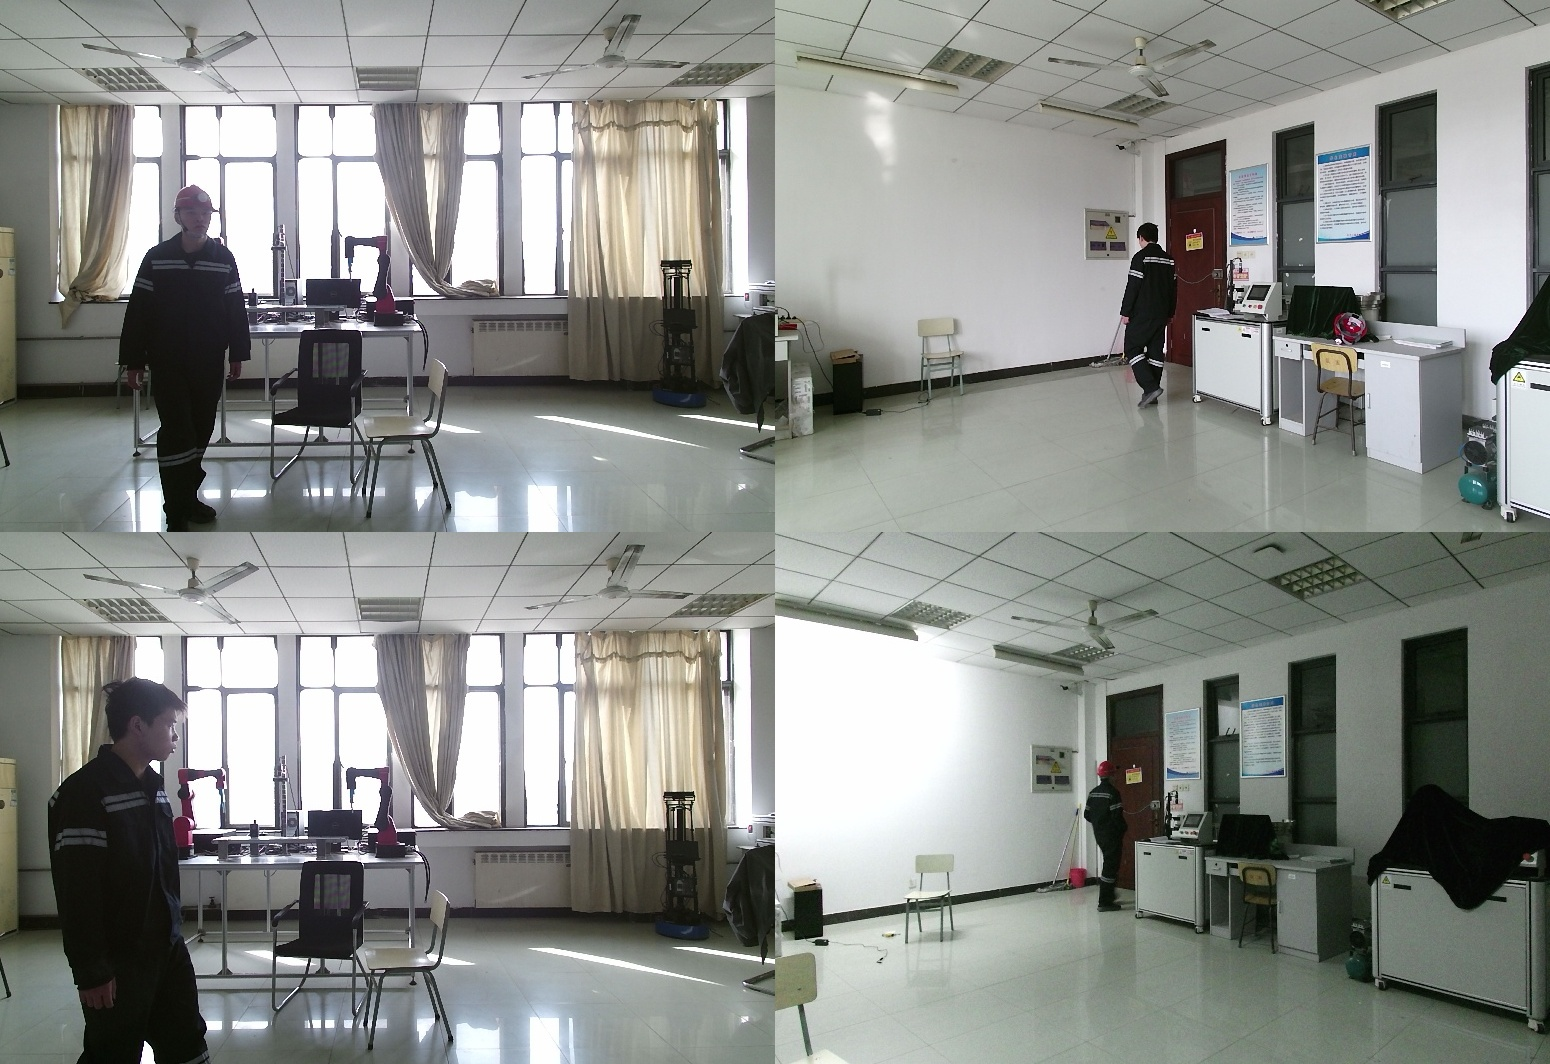person: (51, 679, 218, 1064), (121, 187, 251, 532), (1120, 224, 1183, 414), (1076, 760, 1129, 917)
